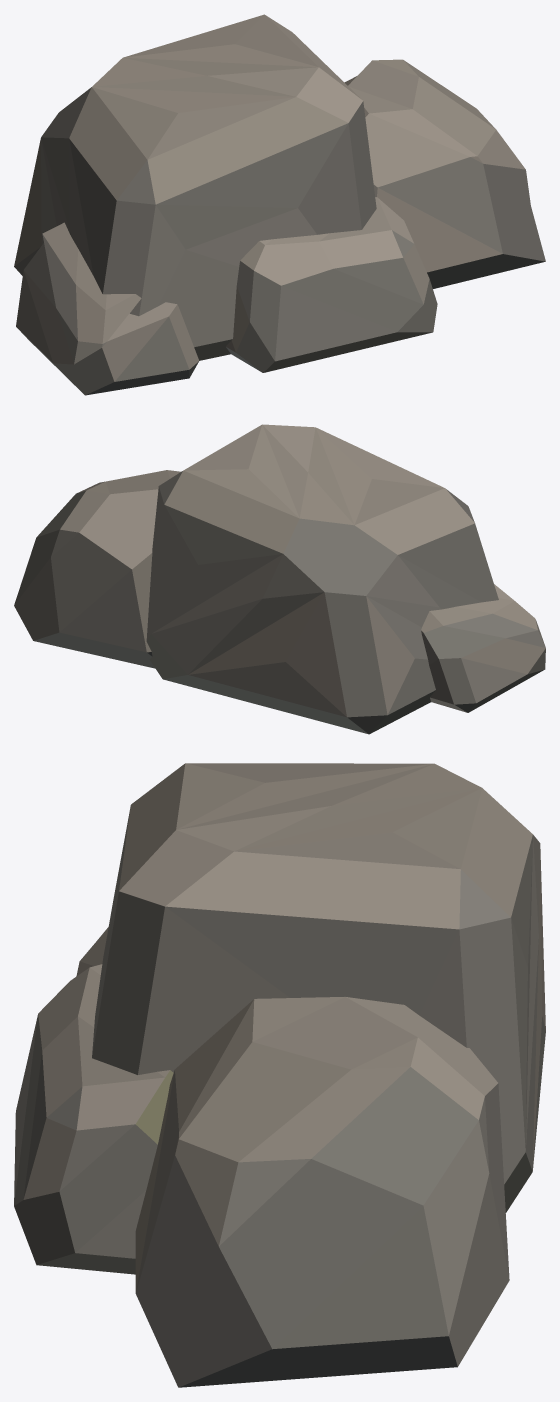
The picture shows the model from 3 angles, top to bottom: view 1: azimuth 30°, elevation 25°; view 2: azimuth 150°, elevation 25°; view 3: azimuth 270°, elevation 25°; orthographic projection. The views are drawn at different scales.
Visible parts, largest first — view 1: verdant-cliff-toe; view 2: verdant-cliff-toe; view 3: verdant-cliff-toe.
Boxes of the visible parts, x1,y1,x2,y2 form: verdant-cliff-toe: (14,14,545,395); verdant-cliff-toe: (14,424,545,734); verdant-cliff-toe: (14,763,545,1387).
Bounding box in the file's own units: 3.11 × 1.37 × 1.78.
1 material, 1 textured.
